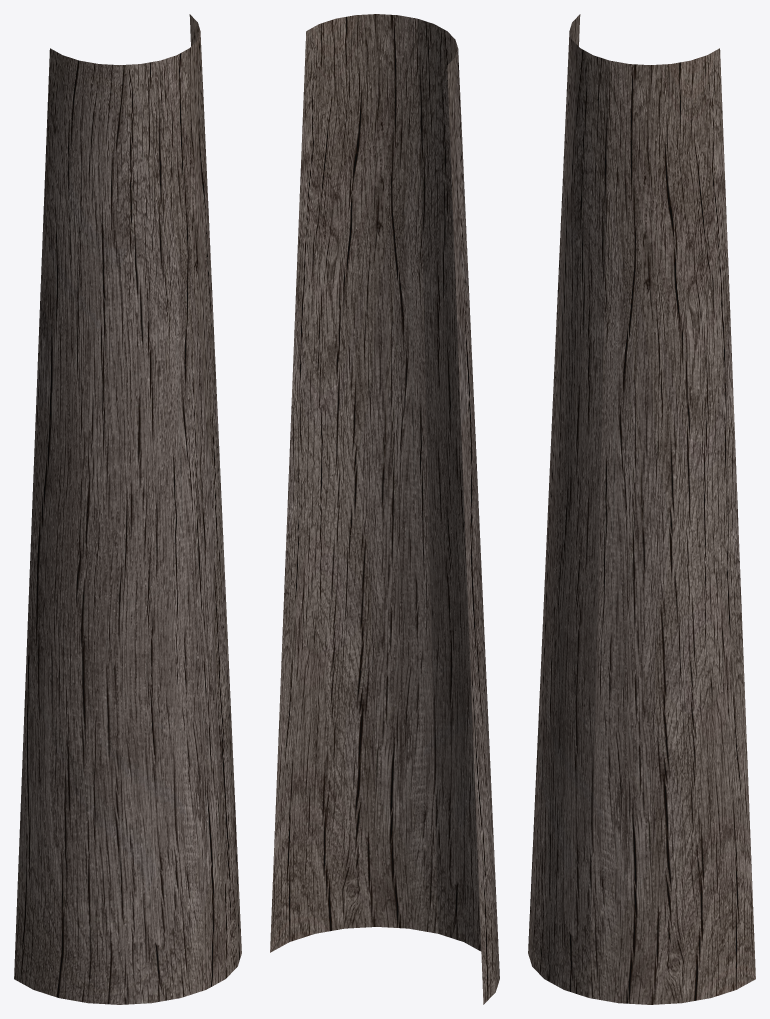
Rendered from IntWall01pillar2.FBX.
3 renders of one model, left to right at view 1: azimuth 30°, elevation 25°; view 2: azimuth 150°, elevation 25°; view 3: azimuth 330°, elevation 25°, orthographic.
Visible parts, largest first — view 1: Object001; view 2: Object001; view 3: Object001.
Part boxes in pixels (x1=…): Object001: x1=14, y1=14, x2=241, y2=1004; Object001: x1=270, y1=14, x2=499, y2=1004; Object001: x1=528, y1=14, x2=755, y2=1004.
Size of the model in its own units: 23.62 by 98.43 by 11.81.
